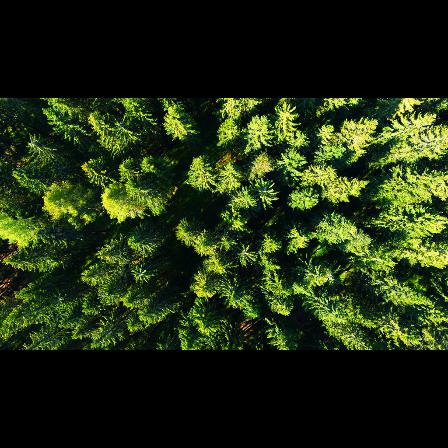Sick: (232, 242, 257, 270), (110, 115, 130, 137), (130, 266, 151, 284)
